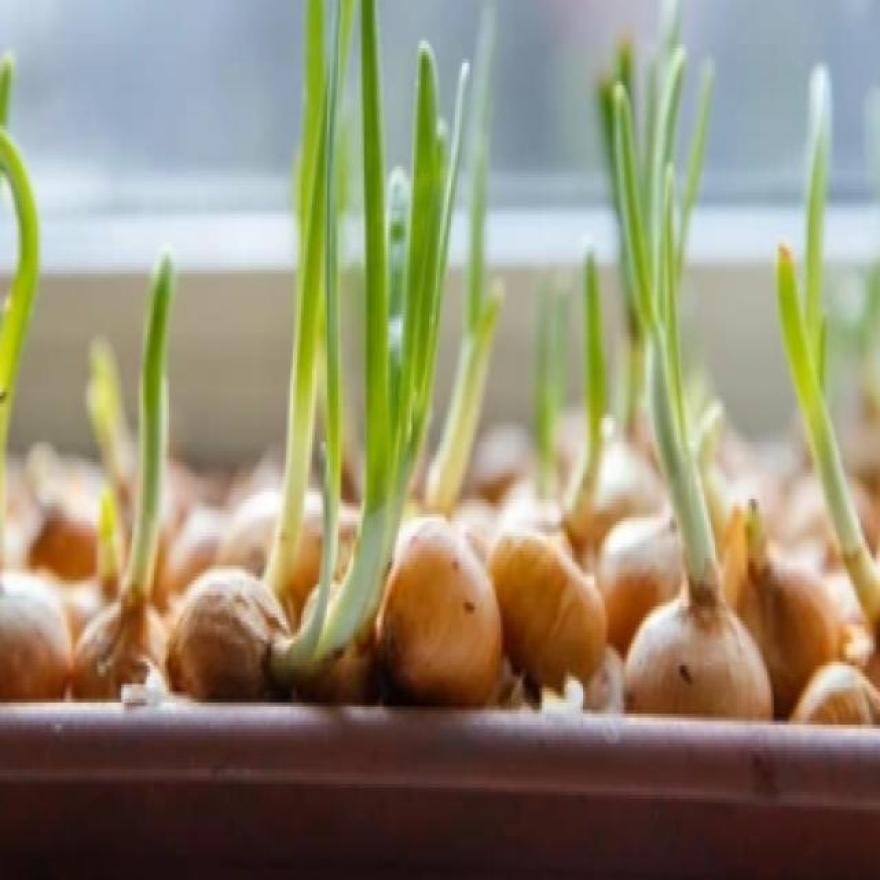Sprouted: (301, 0, 412, 673), (613, 6, 722, 598), (776, 53, 874, 562), (132, 258, 169, 606)
